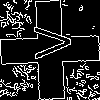V: (25, 25, 72, 60)
